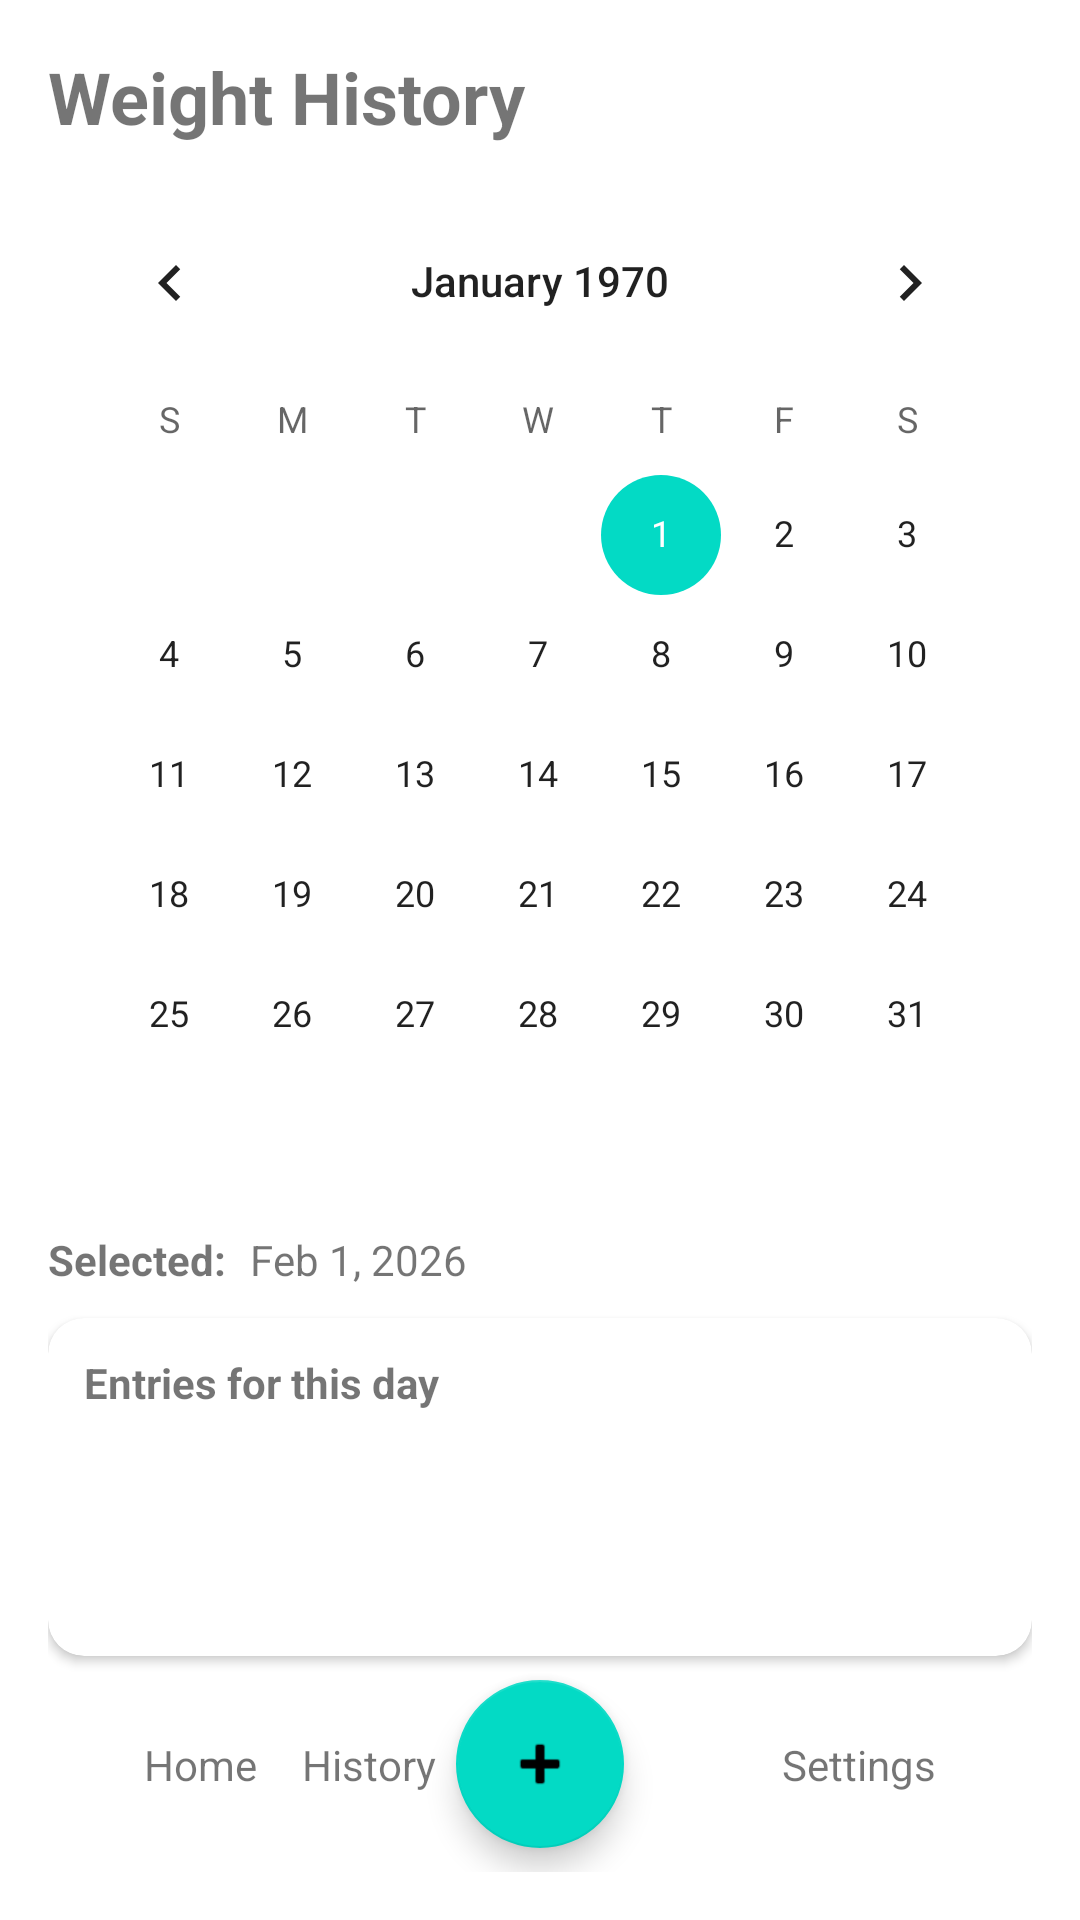

Icon bounding boxes for this 1080×1920 phone screenshot, format [x1, y1, x2, y2]:
Add weight entry: [456, 1680, 624, 1848]
